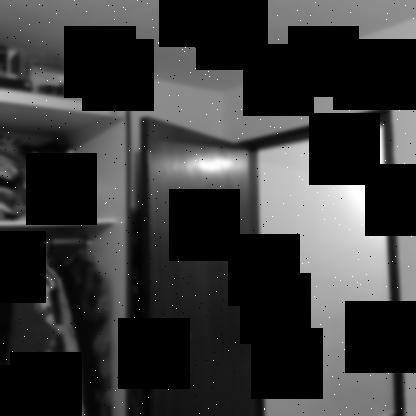Porte: (138, 104, 408, 415)
